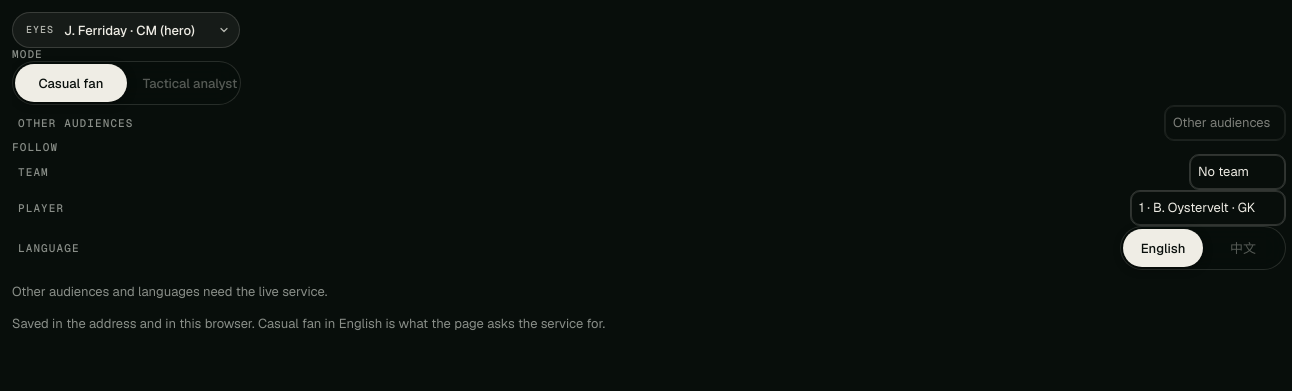
Test: following a player › without look data it says so and offers 'Watch through #N's eyes'
Select "1 · B. Oystervelt · GK" in the dropdown labelled "Player" at x=1208, y=208, box [1130,190,1286,226]
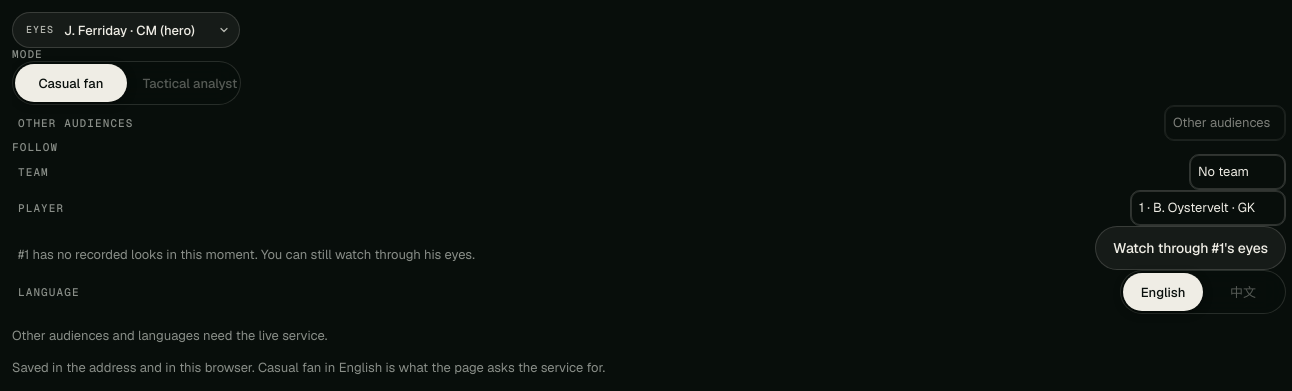
Expected: the element with test id "follow-eyes" shows "has no recorded looks in this moment", [18,246,475,263]
Expected: the button "Watch through #1's eyes" is shown
Click the button "Watch through #1's eyes".
click(1191, 248)  # box [1095,226,1286,270]
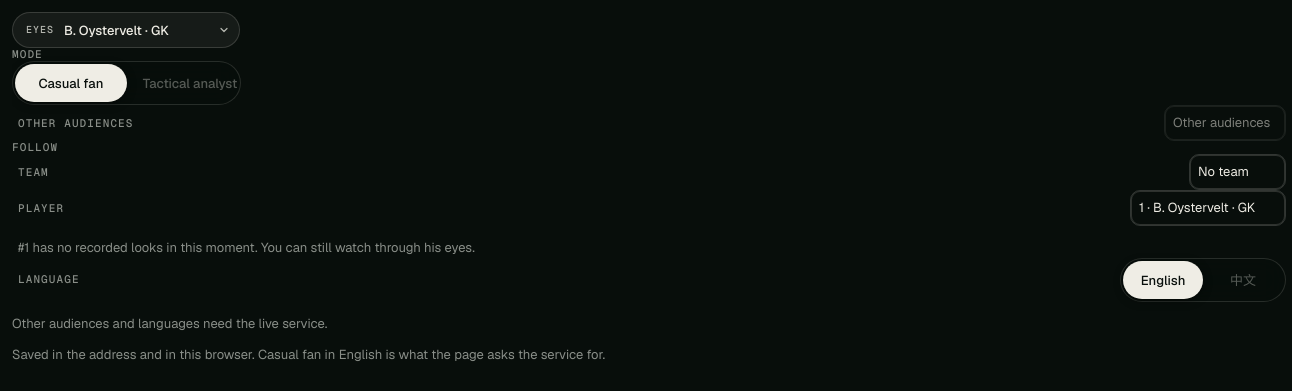
Expected: the dropdown named "Whose eyes" shows "B. Oystervelt · GK", [54,12,240,48]
Expected: the button "Watch through #1's eyes" is gone
